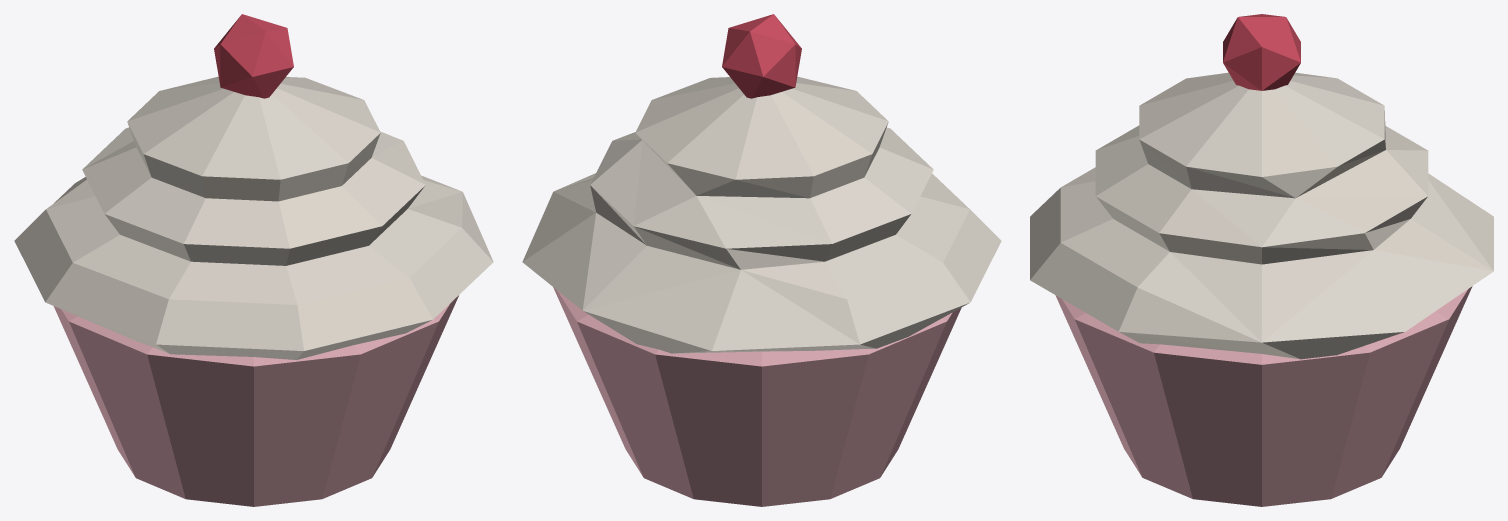
The picture shows the model from 3 angles, left to right: view 1: azimuth 30°, elevation 25°; view 2: azimuth 150°, elevation 25°; view 3: azimuth 270°, elevation 25°; orthographic projection.
Visible parts, largest first — view 1: part1, part0, part2; view 2: part1, part0, part2; view 3: part1, part0, part2.
Part boxes in pixels (x1=…): part1: x1=14, y1=76, x2=493, y2=359; part0: x1=53, y1=295, x2=458, y2=506; part2: x1=214, y1=14, x2=293, y2=98; part1: x1=522, y1=76, x2=1001, y2=353; part0: x1=553, y1=287, x2=961, y2=506; part2: x1=722, y1=14, x2=801, y2=98; part1: x1=1030, y1=72, x2=1493, y2=359; part0: x1=1055, y1=286, x2=1472, y2=506; part2: x1=1223, y1=14, x2=1300, y2=90.
Size of the model in its own units: 2.54 by 2.48 by 2.42.
